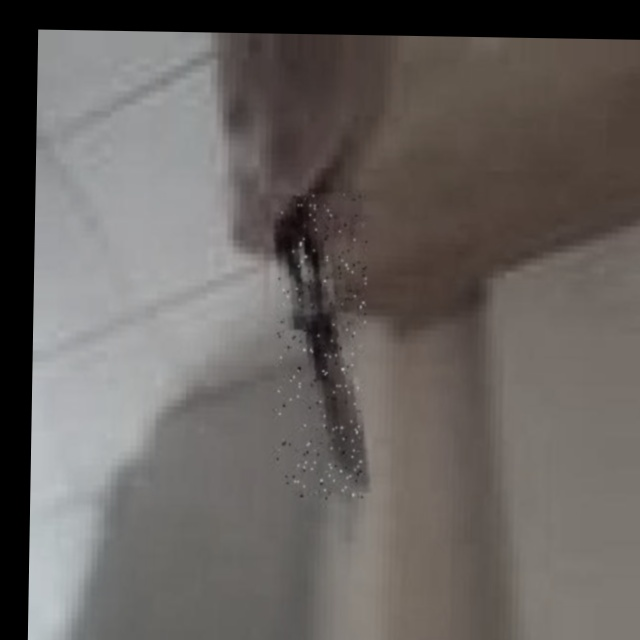Sharp-Object: (274, 193, 368, 500)
